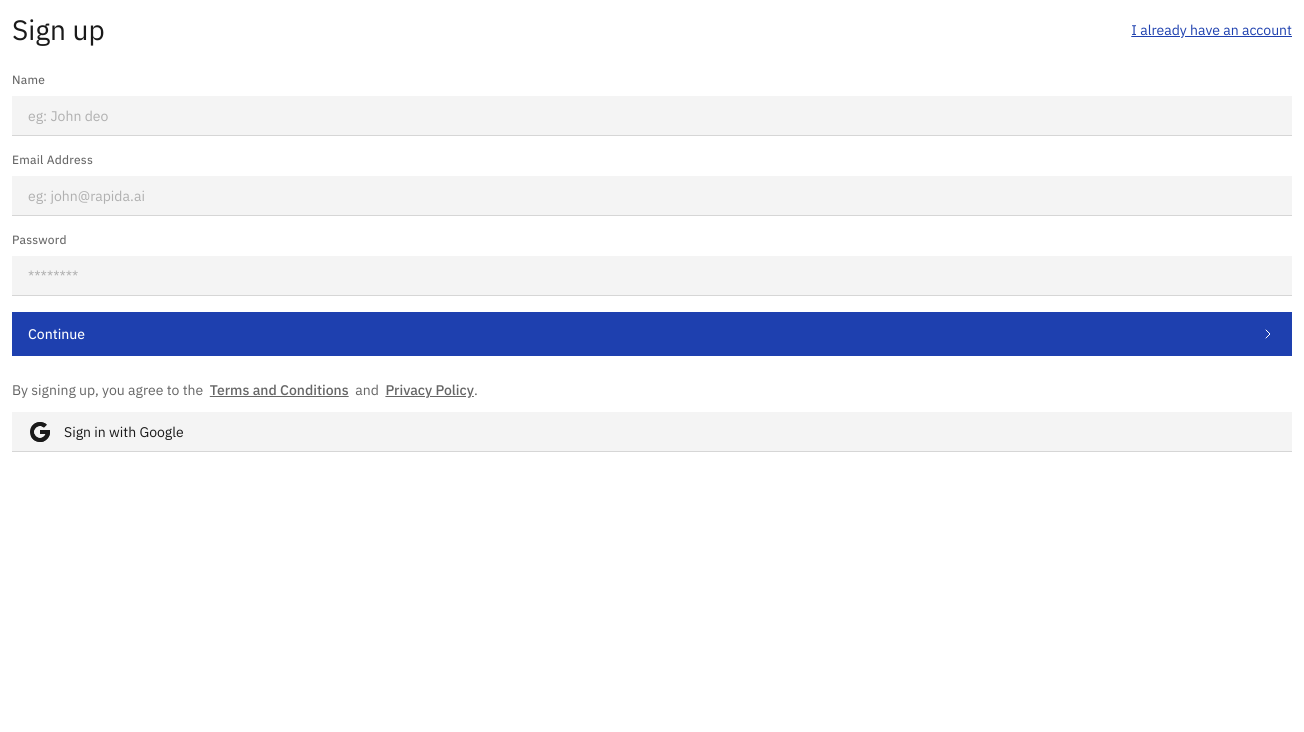
Test case: Authentication pages › sign-up shows API human error message on register failure
Type "John Doe" into the field with placeholder "eg: John deo". click: (652,116)
box: left=12, top=96, right=1292, bottom=136
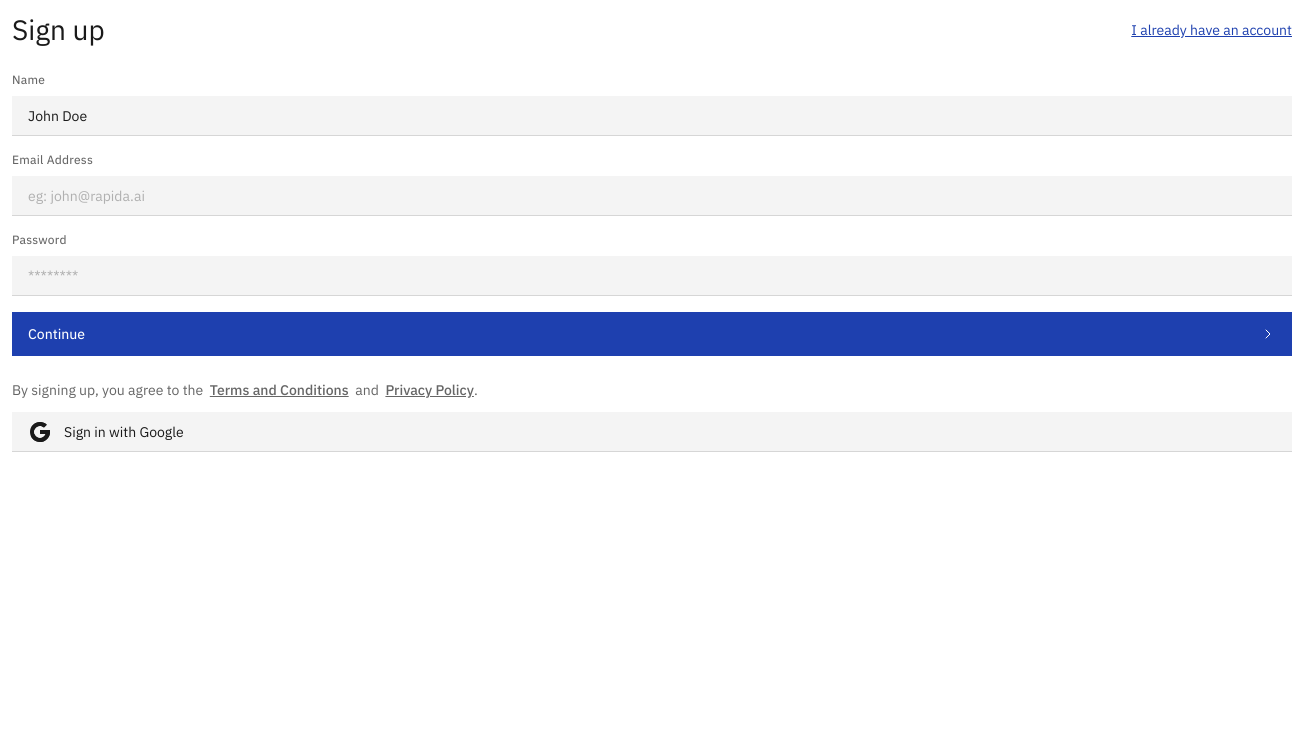
Type "john@rapida.ai" into the field with placeholder "eg: john@rapida.ai". click: (652,196)
box: left=12, top=176, right=1292, bottom=216
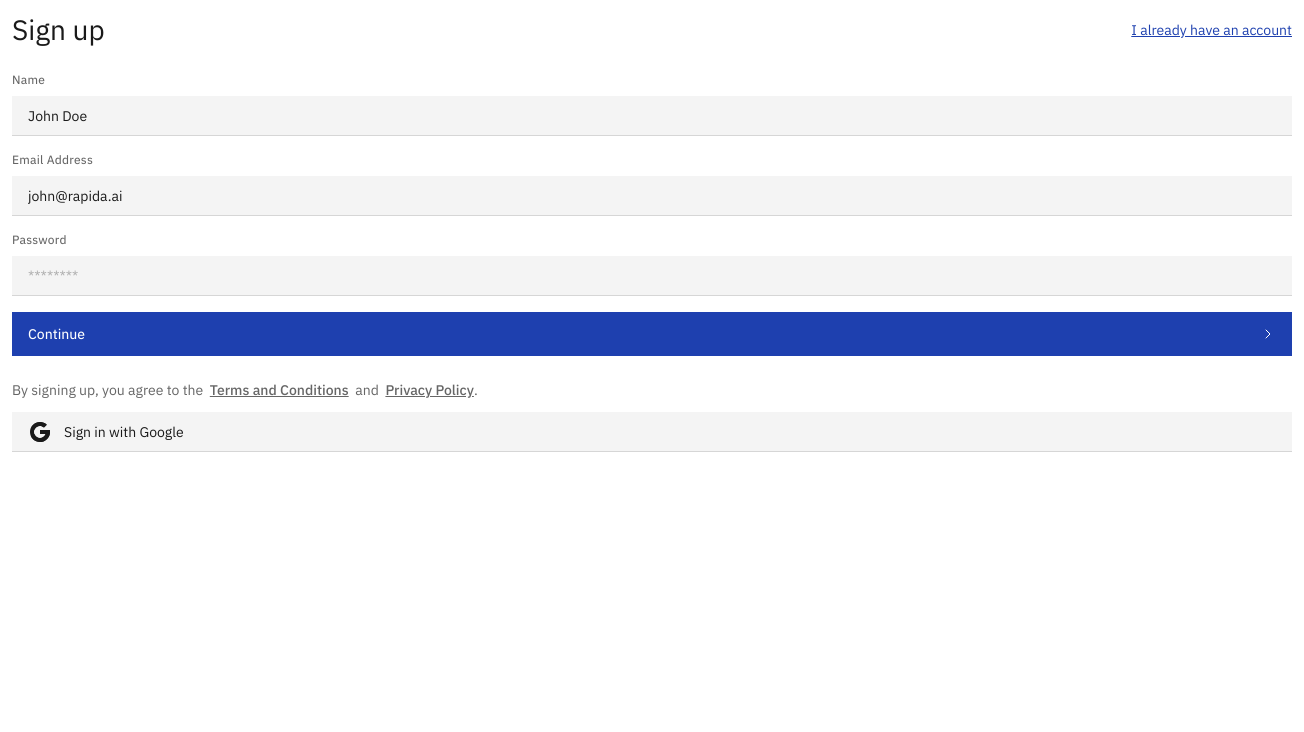
Type "secret" into the password field with placeholder "********". click: (652,276)
box: left=12, top=256, right=1292, bottom=296
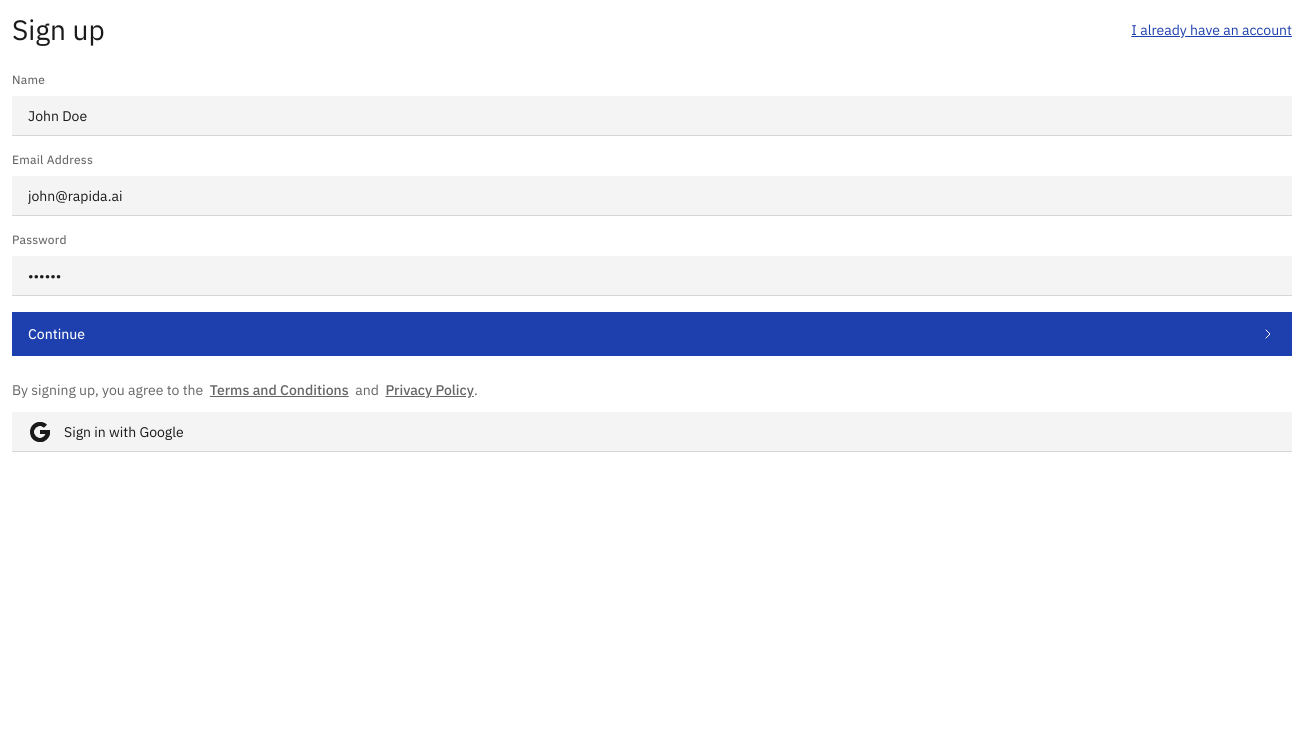
Click the button "Continue". click: (57,334)
box: left=12, top=312, right=1292, bottom=356
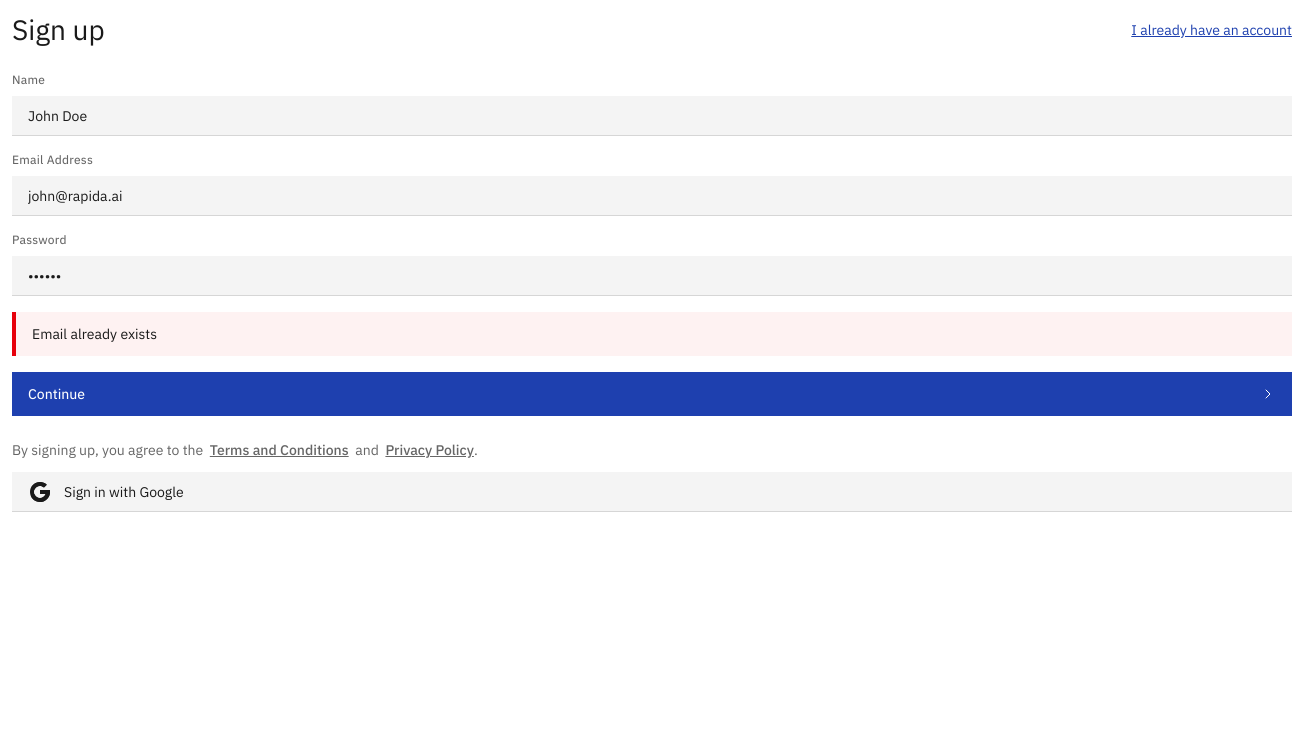
Expected: the text "Email already exists" is shown, left=12, top=312, right=1292, bottom=356
